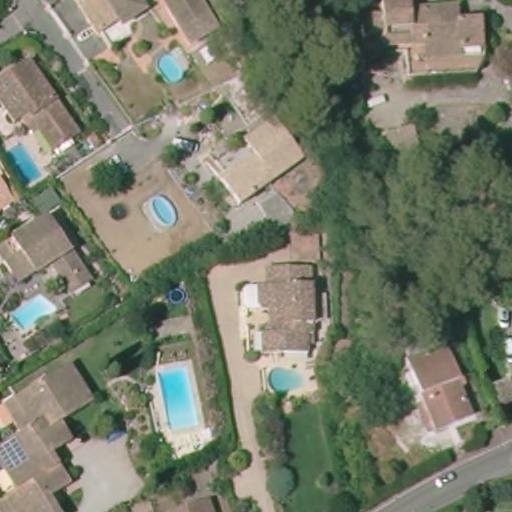pool: (154, 361, 206, 437), (4, 293, 62, 335), (264, 360, 312, 398), (5, 138, 42, 186), (142, 191, 182, 231), (150, 49, 186, 86)
